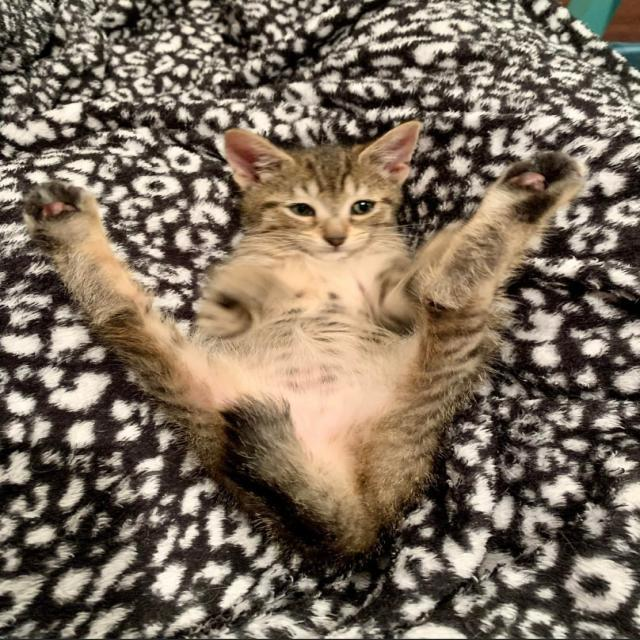da khoe manh: (330, 394, 441, 523)
